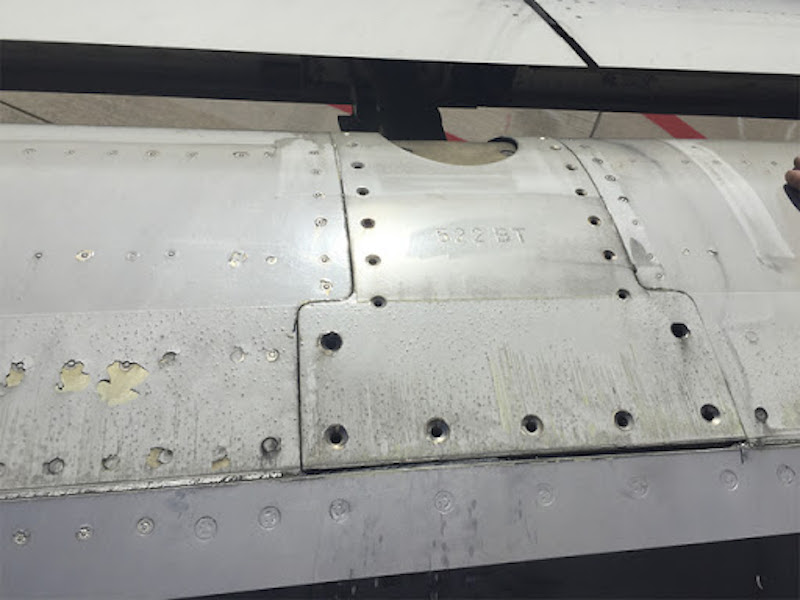hole: (423, 414, 453, 445), (518, 411, 546, 438), (324, 422, 349, 448), (318, 330, 346, 353), (698, 401, 722, 425), (612, 408, 636, 432), (668, 318, 691, 340), (370, 294, 388, 310), (366, 253, 382, 268), (614, 287, 630, 302), (354, 186, 372, 199), (351, 159, 367, 173), (600, 249, 617, 262), (587, 215, 603, 228), (361, 217, 376, 229), (575, 188, 586, 199), (567, 164, 579, 174)
rivet: (192, 514, 220, 542), (256, 504, 284, 531), (326, 497, 353, 524), (432, 488, 458, 515), (530, 481, 558, 506), (773, 463, 798, 488), (626, 477, 653, 500), (718, 466, 739, 490), (11, 527, 33, 546), (135, 516, 156, 535), (76, 523, 94, 541)
